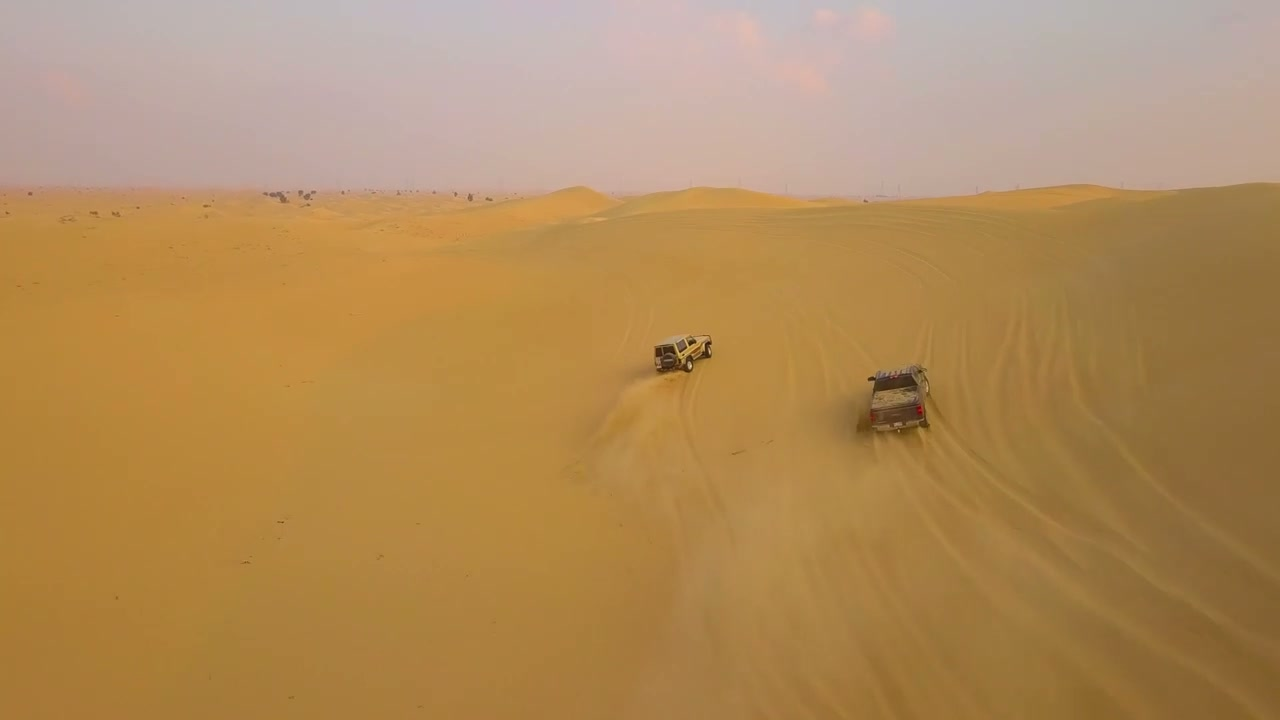vehicle_track: (884, 247, 1279, 719)
